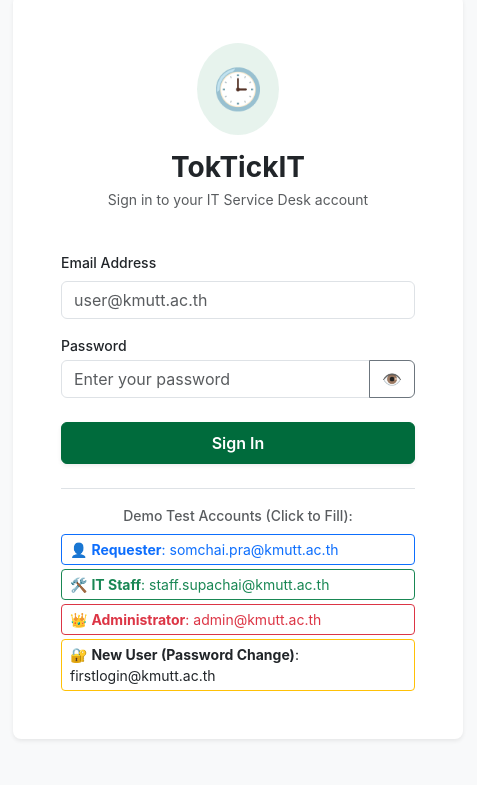
Test case: UI-01 to UI-04: Login Component (client/tests/lab-03/Login.test.tsx) › UI-02 (AC-01): displays inline validation error when submitting empty fields
What coordinates should you click on to do the following:
click the button "Sign In"
I would click on:
 (238, 443)
Its box is [61,422,415,464].
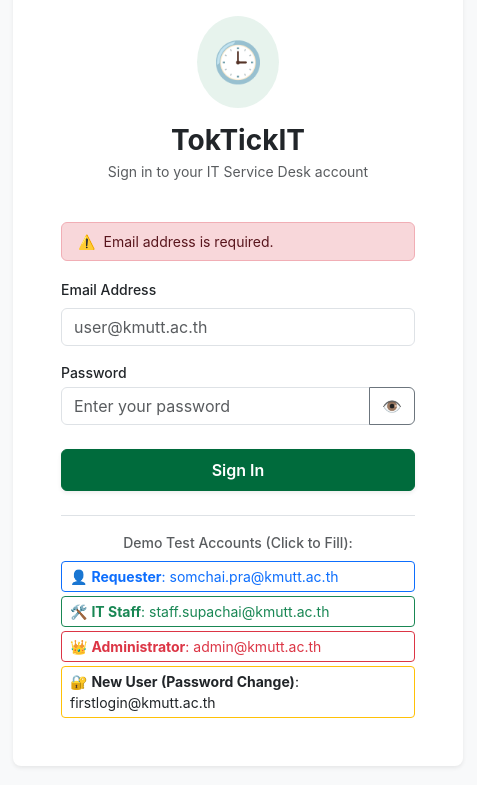
Expected: the text "Email address is required." is shown, [104,231,274,252]
